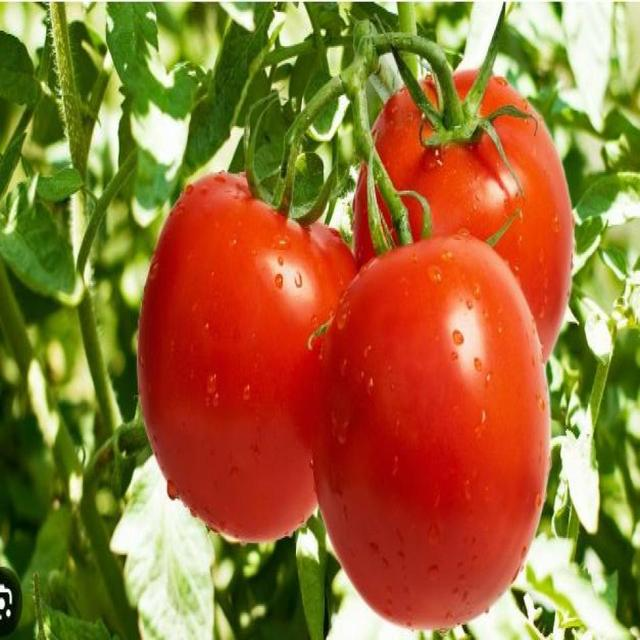Healthy Fruit: (136, 150, 308, 268)
